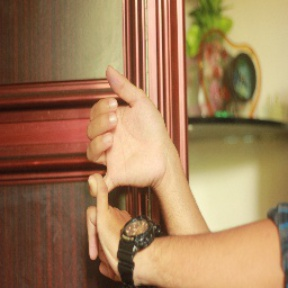S: (72, 67, 170, 281)
